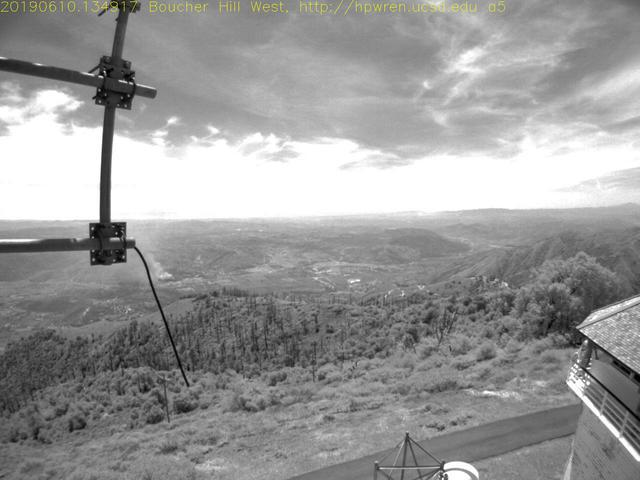smoke: (128, 223, 173, 283)
